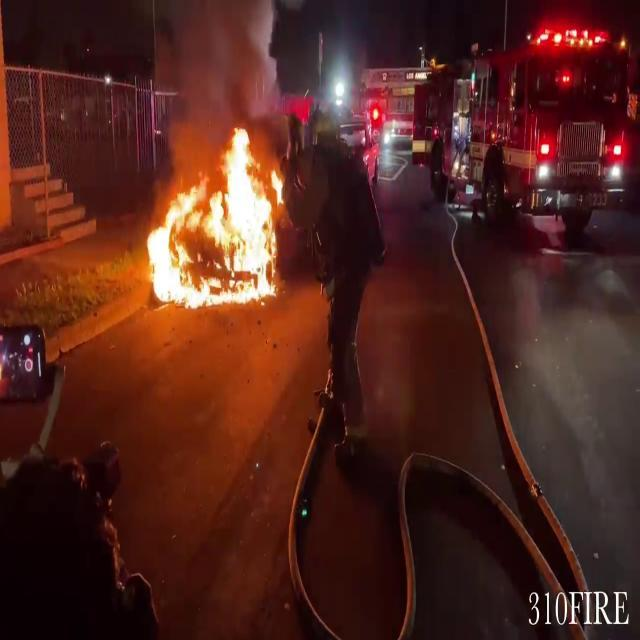Fire: (140, 122, 288, 312)
Smoke: (153, 0, 284, 141)
